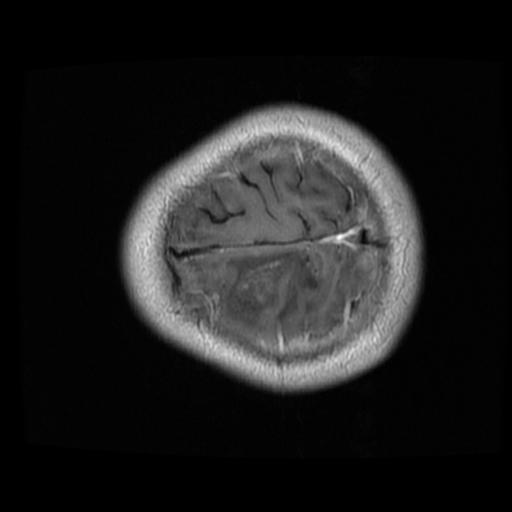glioma: (227, 253, 316, 321)
